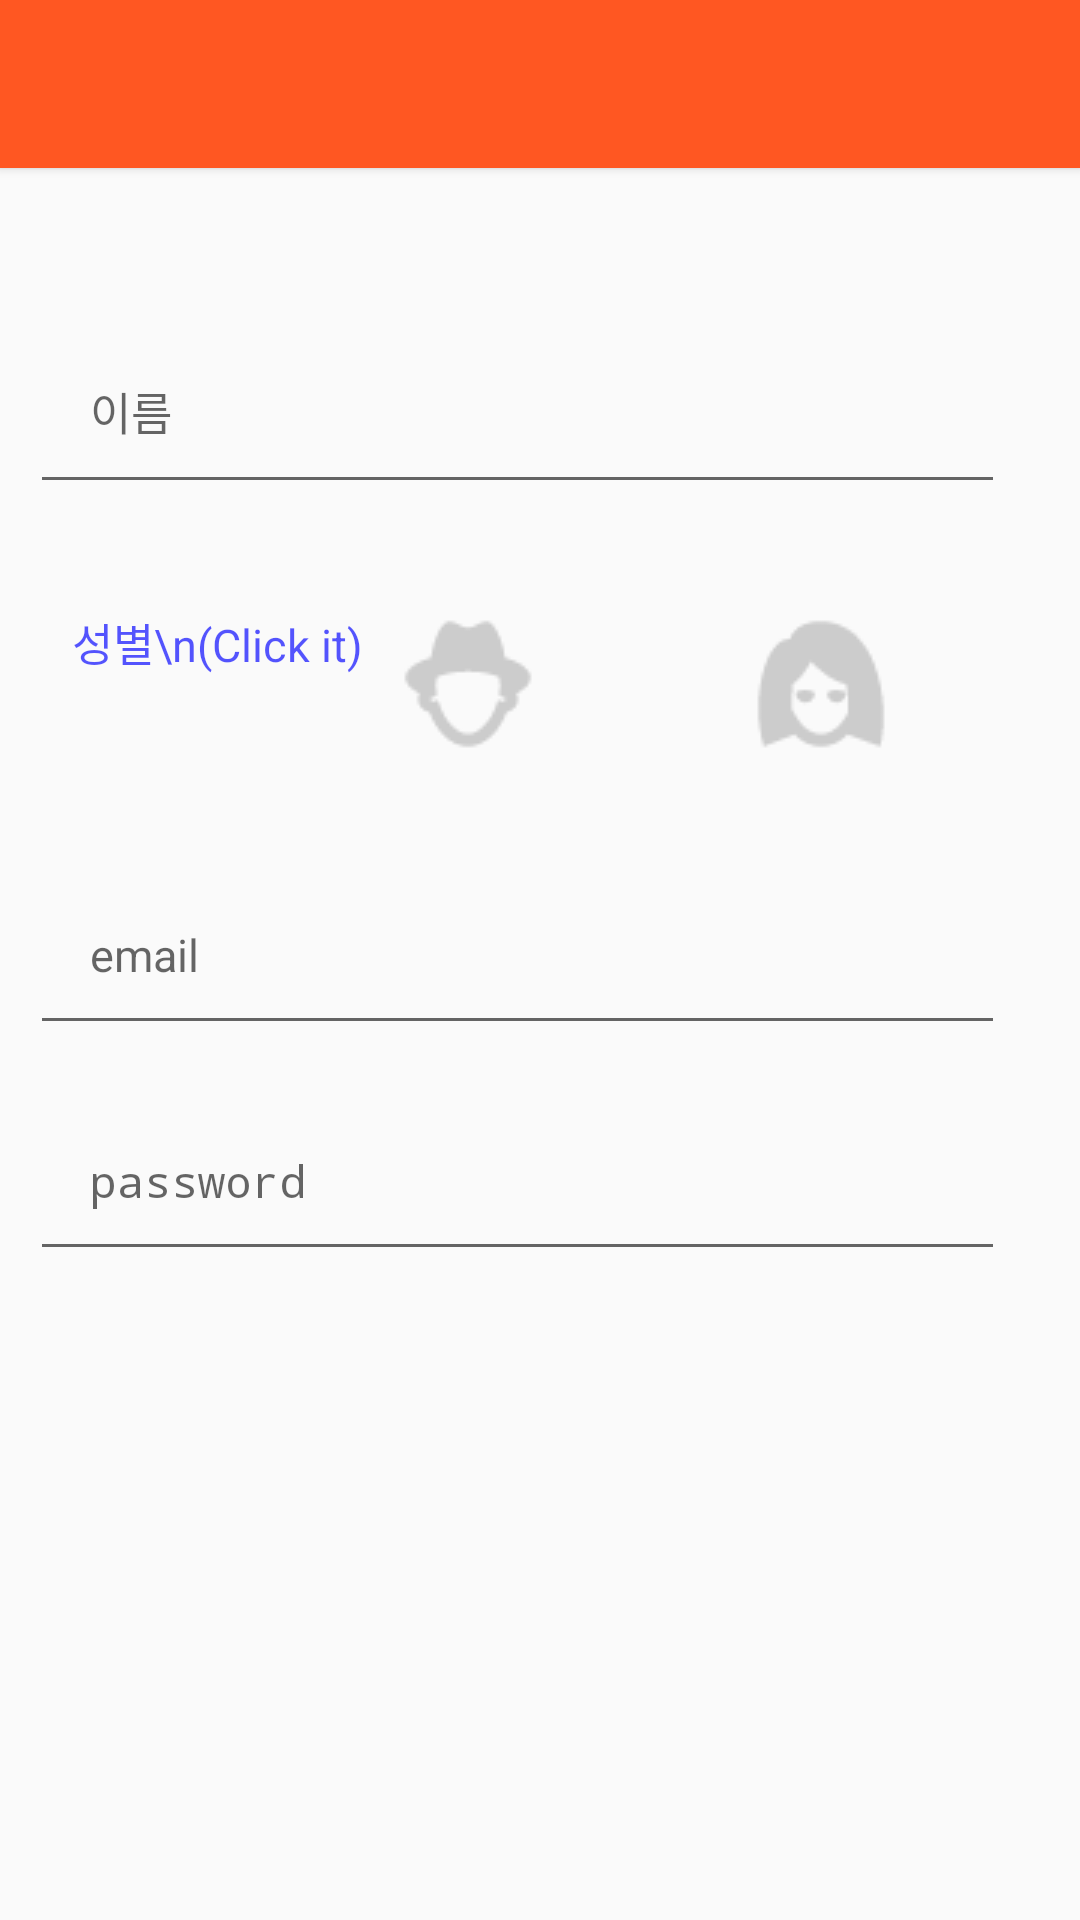

Named icons in this screenshot (1080 × 1920) and their centers, [x,y]:
man: [468,684]
woman: [821,684]
